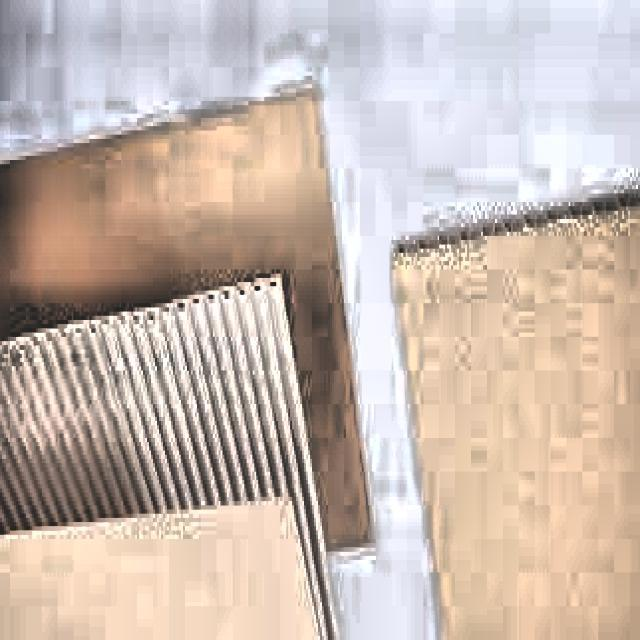cardboard: (0, 92, 378, 564), (0, 274, 342, 640), (392, 181, 640, 640)
